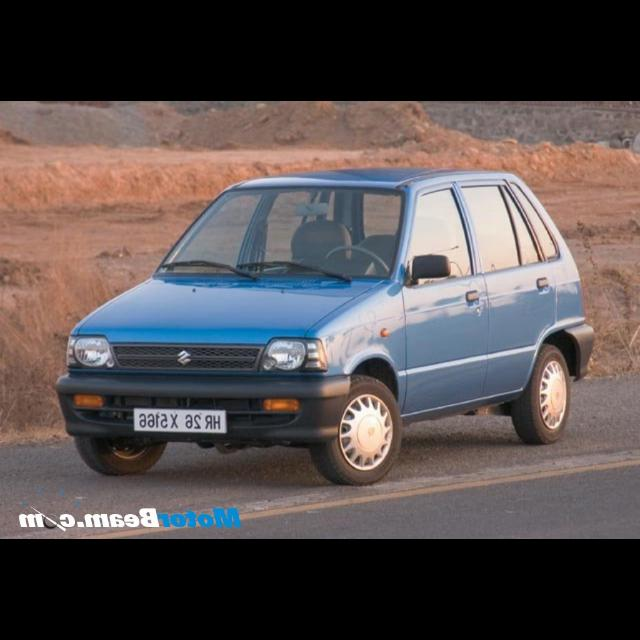vehicles: (56, 165, 598, 485)
